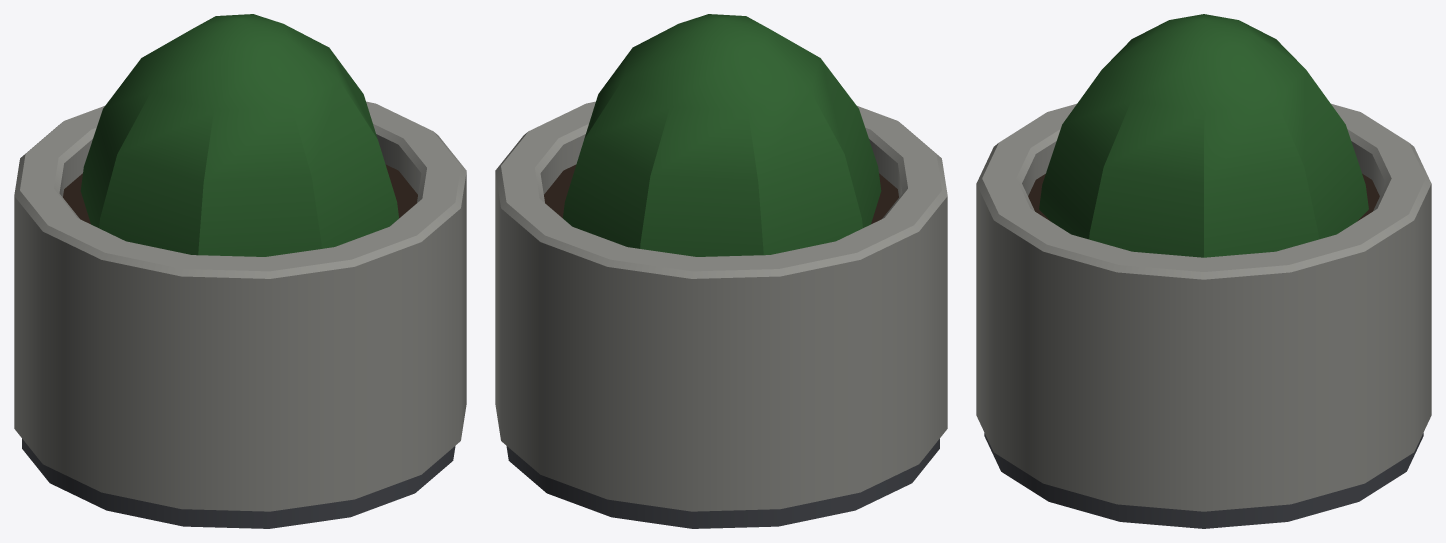
Rendered from gteki_street_planter_round_d800_h500.glb.
The picture shows the model from 3 angles, left to right: view 1: azimuth 30°, elevation 25°; view 2: azimuth 150°, elevation 25°; view 3: azimuth 270°, elevation 25°; orthographic projection.
Visible parts, largest first — view 1: VIS_body; view 2: VIS_body; view 3: VIS_body.
Boxes of the visible parts, <box> form: VIS_body: <box>14,14,466,528</box>; VIS_body: <box>495,14,947,528</box>; VIS_body: <box>976,14,1431,528</box>.
Size of what is drawn, in the model's own units: 0.8 by 0.8073 by 0.8.
Materials: 1 (1 with a texture image).
